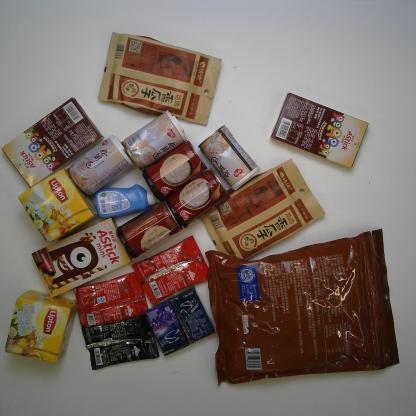Canned Food: (198, 124, 262, 192), (66, 133, 134, 196), (116, 198, 184, 260), (164, 167, 230, 229), (142, 140, 208, 200), (122, 110, 186, 171)
Dessert: (0, 97, 106, 189), (31, 217, 133, 298), (271, 90, 370, 168)
Dried Food: (205, 228, 401, 388), (199, 157, 326, 264), (97, 31, 223, 127)
Gum: (169, 286, 216, 344), (144, 299, 189, 356)
Instant Drink: (18, 168, 100, 244), (132, 235, 212, 306), (3, 290, 78, 362), (81, 314, 160, 370), (74, 271, 148, 328)
Personal Hygiene: (95, 183, 161, 219)
